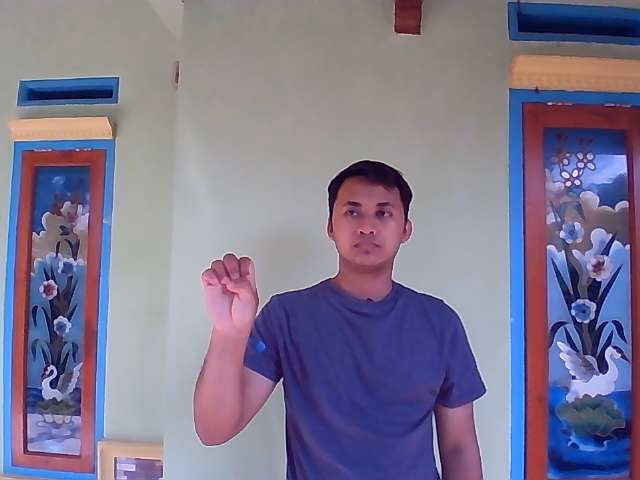E: (197, 248, 263, 350)
